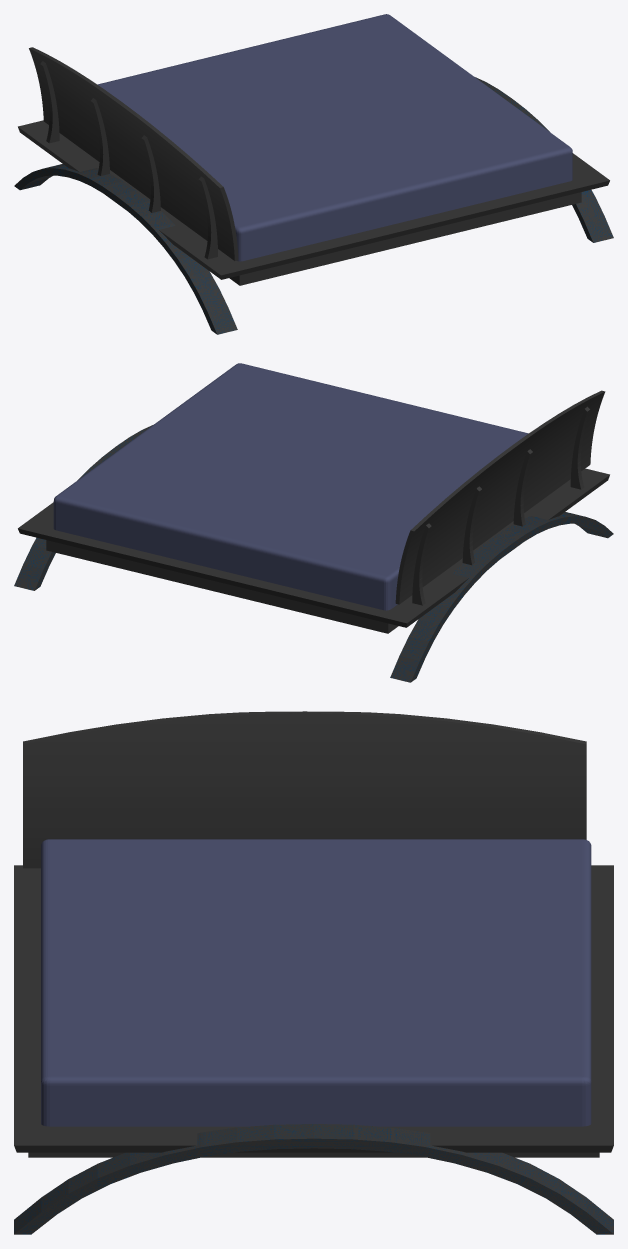
The picture shows the model from 3 angles, top to bottom: view 1: azimuth 30°, elevation 25°; view 2: azimuth 150°, elevation 25°; view 3: azimuth 270°, elevation 25°; orthographic projection. The views are drawn at different scales.
Parts seen in each view (by area): view 1: mesh4.001_mesh4-geometry, mesh5.001_mesh5-geometry, mesh3.001_mesh3-geometry, mesh1.001_mesh1-geometry, mesh1.002_mesh1-geometry, mesh2.002_mesh2-geometry, mesh2.003_mesh2-geometry, mesh2.001_mesh2-geometry, mesh2.004_mesh2-geometry; view 2: mesh4.001_mesh4-geometry, mesh3.001_mesh3-geometry, mesh5.001_mesh5-geometry, mesh1.001_mesh1-geometry, mesh1.002_mesh1-geometry, mesh2.003_mesh2-geometry, mesh2.002_mesh2-geometry, mesh2.001_mesh2-geometry, mesh2.004_mesh2-geometry; view 3: mesh4.001_mesh4-geometry, mesh3.001_mesh3-geometry, mesh5.001_mesh5-geometry, mesh1.002_mesh1-geometry.
Part boxes in pixels (box(x1,y1,x2,y2)): mesh4.001_mesh4-geometry: box(97, 14, 572, 261); mesh5.001_mesh5-geometry: box(18, 120, 609, 285); mesh3.001_mesh3-geometry: box(29, 47, 238, 260); mesh1.001_mesh1-geometry: box(14, 164, 237, 334); mesh1.002_mesh1-geometry: box(475, 77, 613, 242); mesh2.002_mesh2-geometry: box(40, 61, 59, 143); mesh2.003_mesh2-geometry: box(198, 176, 217, 259); mesh2.001_mesh2-geometry: box(90, 98, 109, 175); mesh2.004_mesh2-geometry: box(141, 135, 160, 212); mesh4.001_mesh4-geometry: box(53, 363, 528, 610); mesh3.001_mesh3-geometry: box(395, 390, 605, 604); mesh5.001_mesh5-geometry: box(18, 468, 609, 633); mesh1.001_mesh1-geometry: box(390, 512, 613, 682); mesh1.002_mesh1-geometry: box(14, 425, 152, 590); mesh2.003_mesh2-geometry: box(570, 406, 590, 489); mesh2.002_mesh2-geometry: box(412, 523, 431, 605); mesh2.001_mesh2-geometry: box(462, 486, 481, 565); mesh2.004_mesh2-geometry: box(513, 449, 532, 526); mesh4.001_mesh4-geometry: box(41, 839, 591, 1126); mesh3.001_mesh3-geometry: box(23, 711, 586, 868); mesh5.001_mesh5-geometry: box(14, 865, 613, 1157); mesh1.002_mesh1-geometry: box(14, 1124, 613, 1234).
Size of the model in its own units: 0.7195 by 0.2776 by 0.6366.
3 materials, 1 textured.
